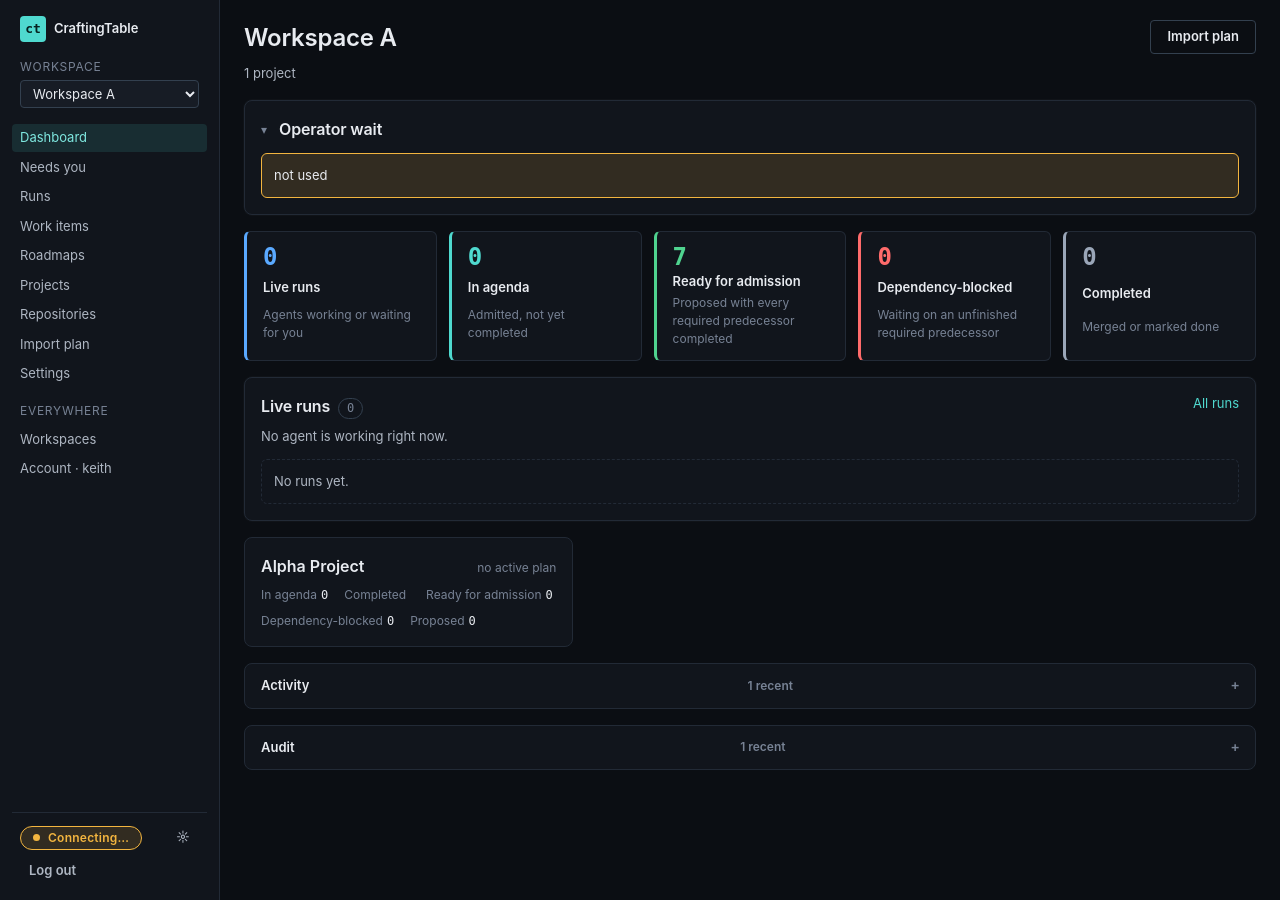
Scenario: workspace switching in the app (CT03-RR4) › never renders the previous workspace projection under the new selection
Expected: the button "Alpha Project" is shown, [261,554,364,578]
Expected: the text "7" is shown, [673,243,687,271]
Note: Select workspace B and hold its snapshot pending.
Step 1. Select "Workspace B" in the dropdown labelled "Workspace" → (110, 94), box [20,80,199,108]
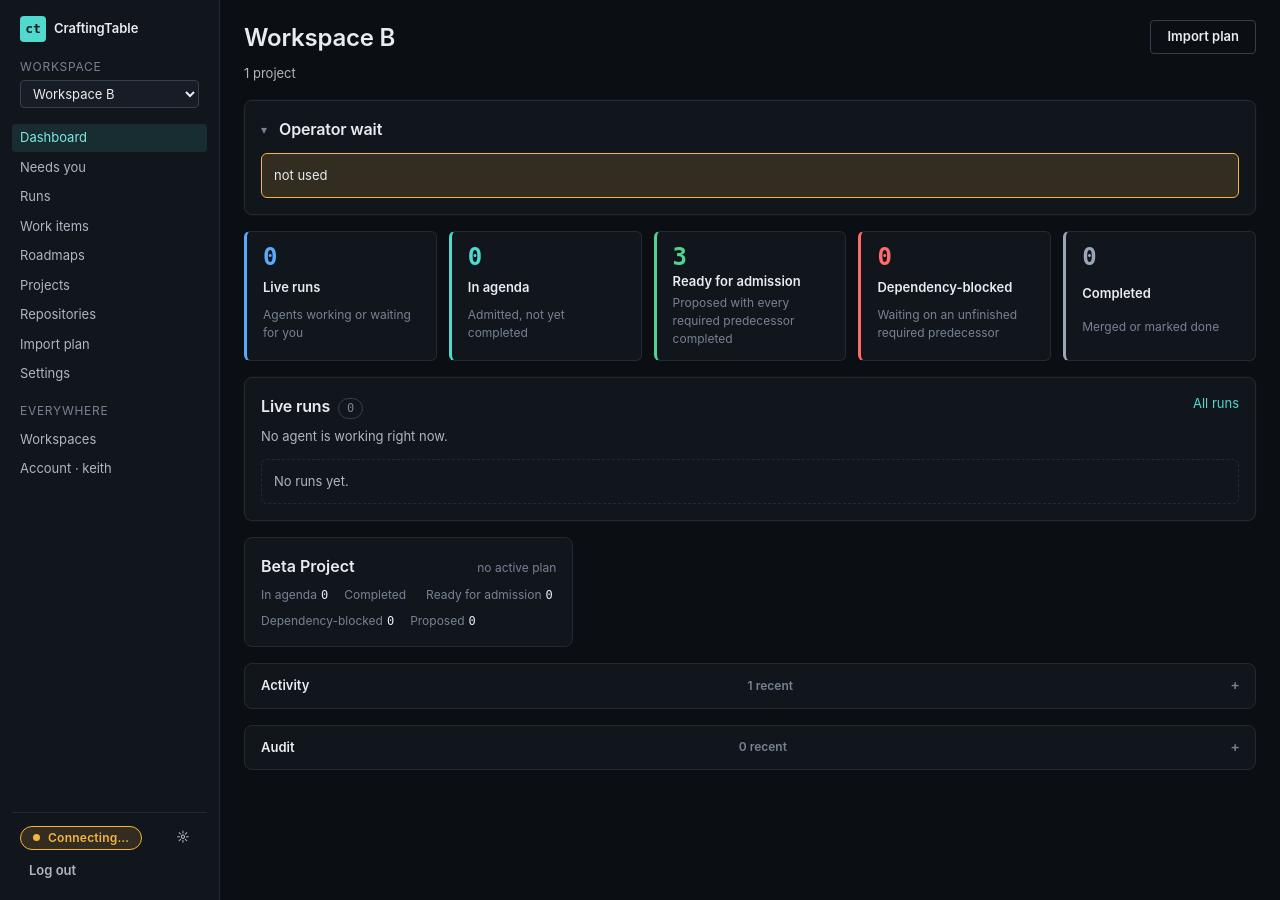
Expected: the button "7" is gone
Expected: the button "Beta Project" is shown, [261,554,355,578]
Expected: the button "Alpha Project" is gone
